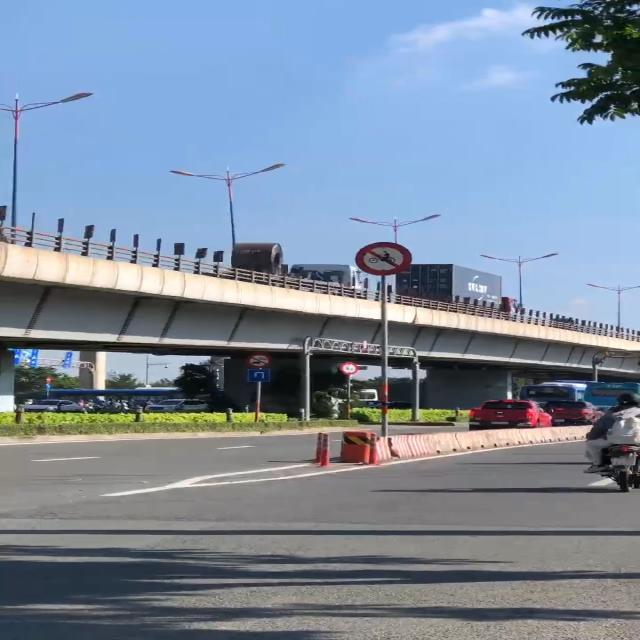Bien bao cam xe may: (354, 240, 414, 280)
